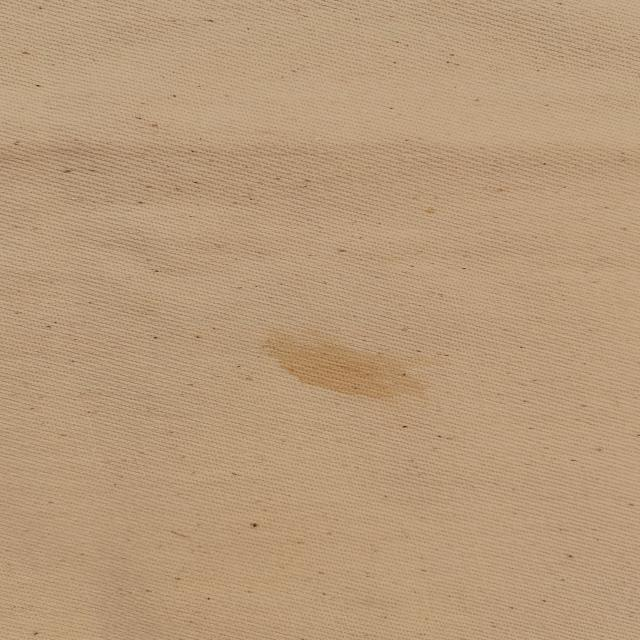taaaches: (246, 323, 444, 411)
